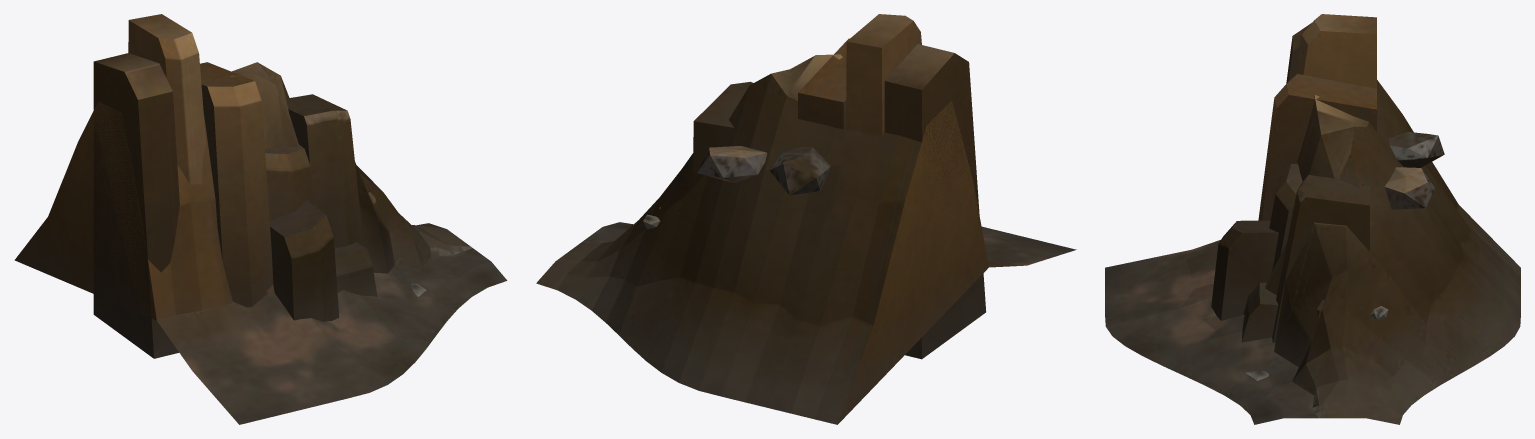
File: cliff-exit.glb
The picture shows the model from 3 angles, left to right: view 1: azimuth 30°, elevation 25°; view 2: azimuth 150°, elevation 25°; view 3: azimuth 270°, elevation 25°; orthographic projection. The views are drawn at different scales.
Parts seen in each view (by area): view 1: cliff-exit; view 2: cliff-exit; view 3: cliff-exit.
Boxes of the visible parts, x1,y1,x2,y2 form: cliff-exit: (14,14,507,424); cliff-exit: (536,14,1076,424); cliff-exit: (1105,14,1520,424).
Size of the model in its own units: 3 by 2.4 by 3.35.
Materials: 3 (3 with a texture image).
